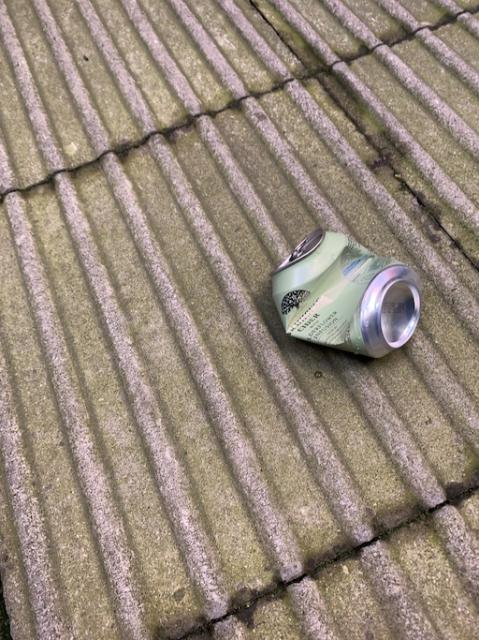metal: (272, 228, 421, 356)
